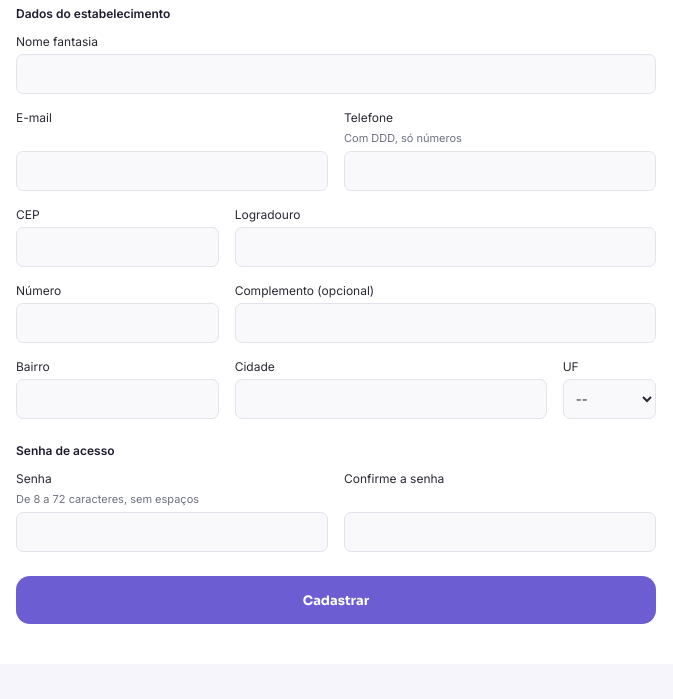
Test: PaginaCadastro › não envia com campos inválidos e mostra os erros
The width and height of the screenshot is (673, 699).
(page scrolled)
Step 1. Click the button "Cadastrar" → (336, 600), box [16,576,656,624]
(page scrolled)
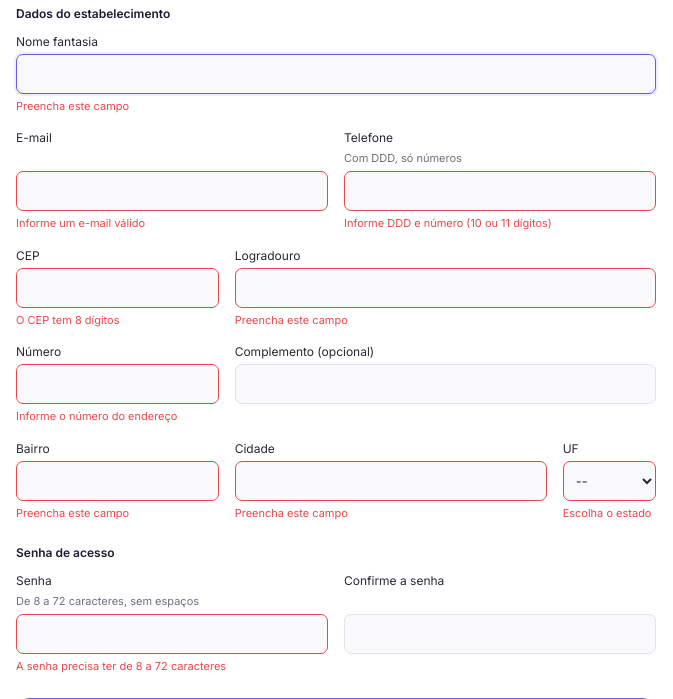
Check: the text "Preencha este campo" below "Nome fantasia" is shown, box [16,99,129,113]
